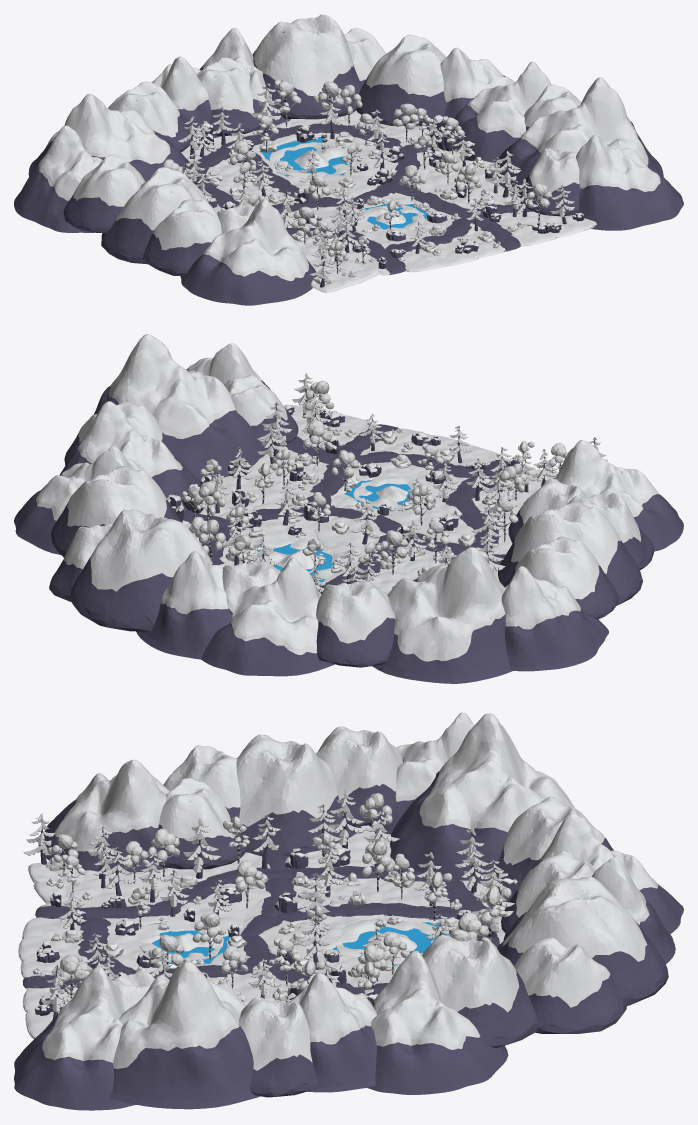
File: Map.fbx
3 views of the same model, one above another, from view 1: azimuth 30°, elevation 25°; view 2: azimuth 150°, elevation 25°; view 3: azimuth 270°, elevation 25° (orthographic). The views are drawn at different scales.
Parts seen in each view (by area): view 1: PP_Forest_Mountain_Moss_01, PP_Forest_Mountain_Moss_02_3, PP_Forest_Mountain_Moss_01_4, PP_Forest_Mountain_Moss_01_6, PP_Forest_Mountain_Moss_02_2, PP_Forest_Mountain_Moss_01_8, PP_Forest_Mountain_Moss_01_5, PP_Forest_Mountain_Moss_01_2, PP_Forest_Mountain_Moss_02_5, PP_Forest_Mountain_Moss_02, PP_Forest_Mountain_Moss_02_9, PP_Forest_Mountain_Moss_02_6 (+34 smaller); view 2: PP_Forest_Mountain_Moss_01_8, PP_Forest_Mountain_Moss_01_6, PP_Forest_Mountain_Moss_02_3, PP_Forest_Mountain_Moss_01_1, PP_Forest_Mountain_Moss_01_2, PP_Forest_Mountain_Moss_02_10, PP_Forest_Mountain_Moss_01_3, PP_Forest_Mountain_Moss_02_5, PP_Forest_Mountain_Moss_01, PP_Forest_Mountain_Moss_02_2, PP_Forest_Mountain_Moss_01_5, PP_Forest_Mountain_Moss_02_9 (+24 smaller); view 3: PP_Forest_Mountain_Moss_01_6, PP_Forest_Mountain_Moss_01_8, PP_Forest_Mountain_Moss_01_7, PP_Forest_Mountain_Moss_01_4, PP_Forest_Mountain_Moss_02_3, PP_Forest_Mountain_Moss_02_5, PP_Forest_Mountain_Moss_02_2, PP_Forest_Mountain_Moss_01, PP_Forest_Mountain_Moss_02_1, PP_Forest_Mountain_Moss_01_5, PP_Forest_Mountain_Moss_02_8, PP_Forest_Mountain_Moss_02_9 (+40 smaller).
Part boxes in pixels (x1,y1,x2,y2): PP_Forest_Mountain_Moss_01: [180, 199, 316, 305]; PP_Forest_Mountain_Moss_02_3: [252, 14, 361, 119]; PP_Forest_Mountain_Moss_01_4: [576, 134, 683, 230]; PP_Forest_Mountain_Moss_01_6: [497, 77, 663, 193]; PP_Forest_Mountain_Moss_02_2: [356, 34, 446, 126]; PP_Forest_Mountain_Moss_01_8: [28, 93, 193, 181]; PP_Forest_Mountain_Moss_01_5: [454, 61, 551, 162]; PP_Forest_Mountain_Moss_01_2: [14, 125, 102, 232]; PP_Forest_Mountain_Moss_02_5: [101, 167, 209, 264]; PP_Forest_Mountain_Moss_02: [143, 199, 221, 275]; PP_Forest_Mountain_Moss_02_9: [63, 155, 145, 232]; PP_Forest_Mountain_Moss_02_6: [197, 57, 260, 136]; PP_Forest_Mountain_Moss_01_8: [372, 547, 512, 683]; PP_Forest_Mountain_Moss_01_6: [94, 334, 265, 481]; PP_Forest_Mountain_Moss_02_3: [70, 509, 213, 631]; PP_Forest_Mountain_Moss_01_1: [201, 557, 334, 676]; PP_Forest_Mountain_Moss_01_2: [501, 566, 608, 671]; PP_Forest_Mountain_Moss_02_10: [316, 581, 395, 667]; PP_Forest_Mountain_Moss_01_3: [136, 551, 232, 659]; PP_Forest_Mountain_Moss_02_5: [498, 501, 642, 605]; PP_Forest_Mountain_Moss_01: [554, 440, 683, 551]; PP_Forest_Mountain_Moss_02_2: [51, 466, 182, 557]; PP_Forest_Mountain_Moss_01_5: [59, 401, 200, 510]; PP_Forest_Mountain_Moss_02_9: [504, 536, 618, 619]; PP_Forest_Mountain_Moss_01_6: [109, 961, 260, 1109]; PP_Forest_Mountain_Moss_01_8: [390, 713, 574, 883]; PP_Forest_Mountain_Moss_01_7: [367, 951, 508, 1094]; PP_Forest_Mountain_Moss_01_4: [14, 967, 136, 1110]; PP_Forest_Mountain_Moss_02_3: [497, 876, 668, 1006]; PP_Forest_Mountain_Moss_02_5: [236, 734, 361, 855]; PP_Forest_Mountain_Moss_02_2: [422, 935, 537, 1047]; PP_Forest_Mountain_Moss_01: [38, 759, 169, 872]; PP_Forest_Mountain_Moss_02_1: [514, 938, 626, 1033]; PP_Forest_Mountain_Moss_01_5: [290, 972, 376, 1092]; PP_Forest_Mountain_Moss_02_8: [239, 997, 317, 1097]; PP_Forest_Mountain_Moss_02_9: [316, 726, 403, 826].
Size of the model in its own units: 39984 by 6773 by 33216.
